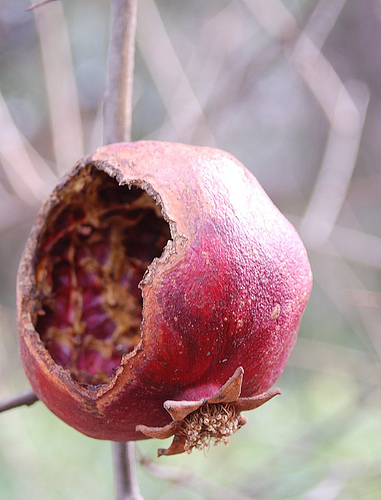pomogranate: (10, 136, 313, 462)
